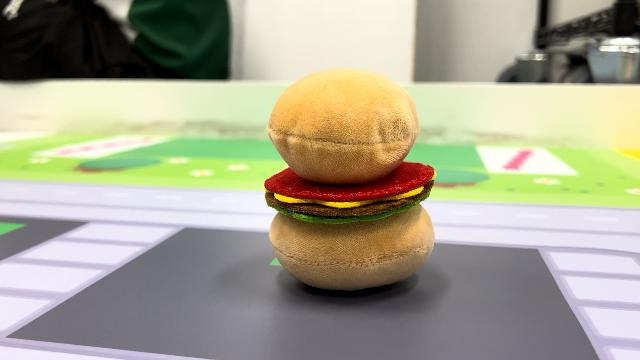burger: (260, 65, 440, 294)
